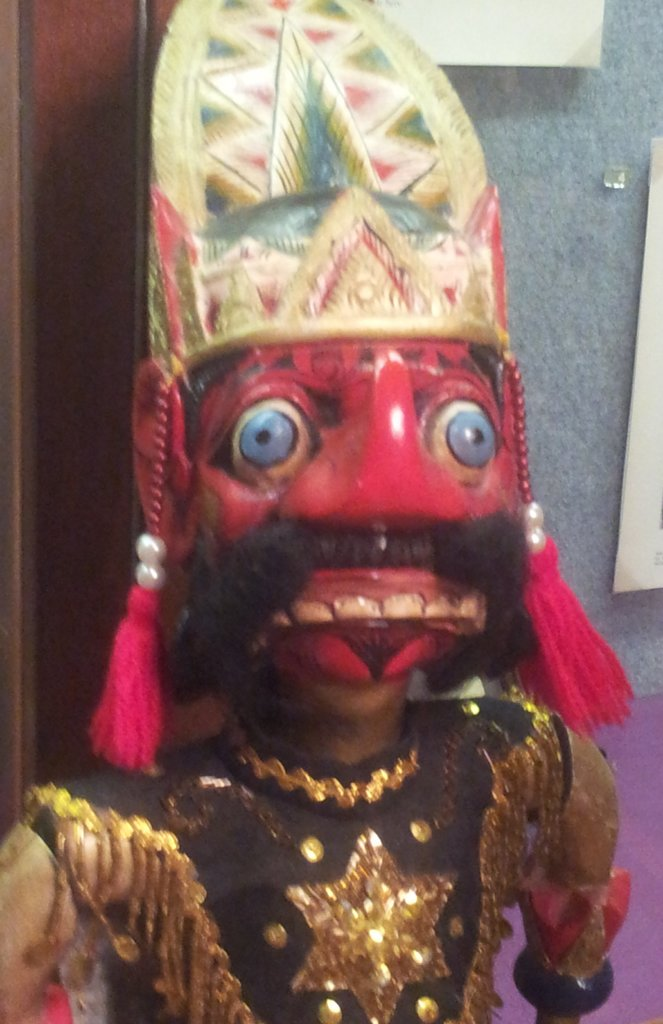Person: (0, 0, 633, 1023)
